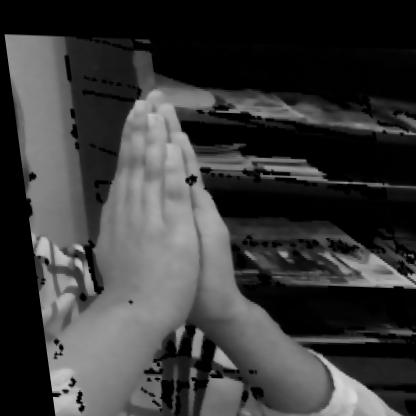namaste: (46, 76, 278, 401)
